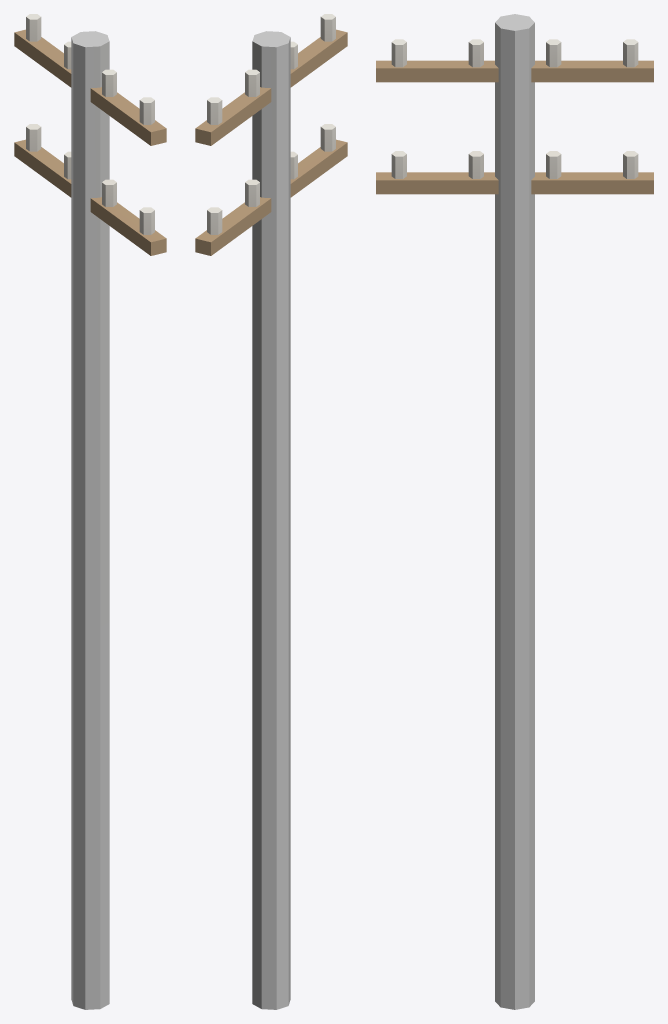
Rendered from Prop_UtilityPole.fbx.
3 renders of one model, left to right at view 1: azimuth 30°, elevation 25°; view 2: azimuth 150°, elevation 25°; view 3: azimuth 270°, elevation 25°, orthographic.
Visible parts, largest first — view 1: Prop_UtilityPole; view 2: Prop_UtilityPole; view 3: Prop_UtilityPole.
Boxes of the visible parts, x1,y1,x2,y2 form: Prop_UtilityPole: (14,14,166,1009); Prop_UtilityPole: (195,14,347,1009); Prop_UtilityPole: (376,14,653,1009).
Bounding box in the file's own units: 0.26 × 7 × 1.8.
